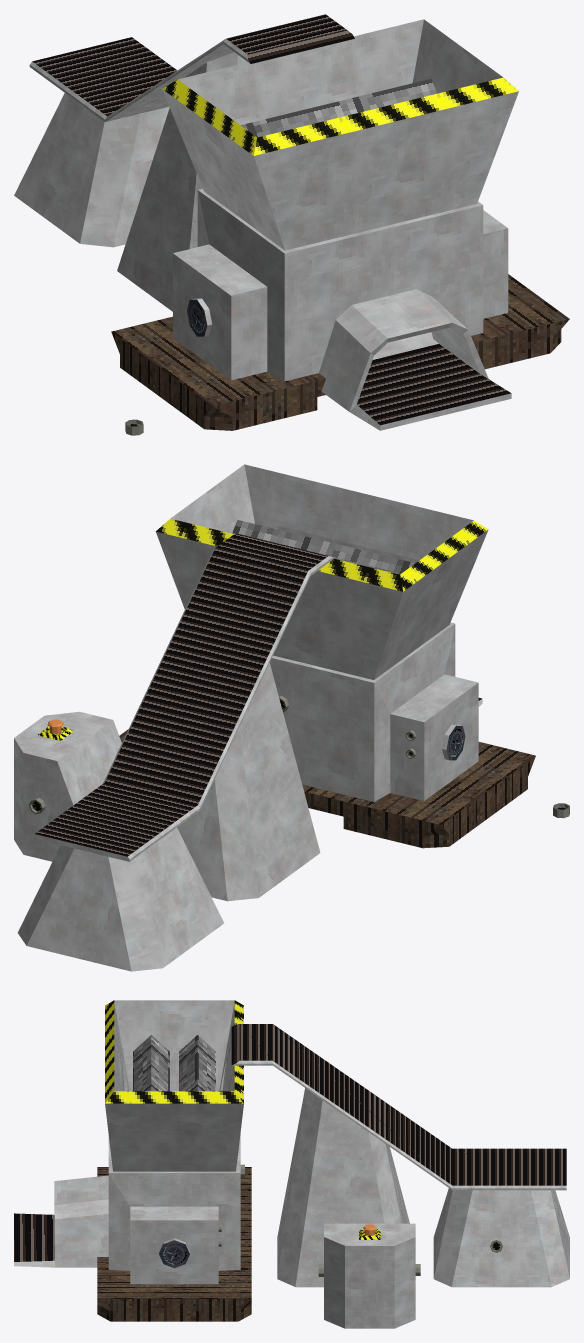
The model's file is shreder.glb.
3 views of the same model, one above another, from view 1: azimuth 30°, elevation 25°; view 2: azimuth 150°, elevation 25°; view 3: azimuth 270°, elevation 25° (orthographic). The views are drawn at different scales.
Visible parts, largest first — view 1: main_body, input_part, roller2; view 2: input_part, main_body, button_support_stand, roller; view 3: main_body, input_part, button_support_stand, roller2, roller.
Boxes of the visible parts, bbox=[...] form: main_body: bbox=[111, 19, 569, 430]; input_part: bbox=[14, 14, 354, 311]; roller2: bbox=[241, 79, 436, 137]; input_part: bbox=[17, 533, 335, 971]; main_body: bbox=[119, 464, 535, 848]; button_support_stand: bbox=[14, 711, 121, 861]; roller: bbox=[232, 520, 415, 574]; main_body: bbox=[14, 1000, 251, 1321]; input_part: bbox=[231, 1024, 569, 1287]; button_support_stand: bbox=[318, 1223, 420, 1328]; roller2: bbox=[179, 1035, 215, 1091]; roller: bbox=[133, 1035, 169, 1091].
Bounding box in the file's own units: 8.14 × 5.26 × 12.16.
Materials: 8 (7 with a texture image).
